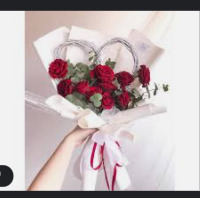RedRose: (46, 57, 69, 77), (56, 76, 76, 99), (93, 63, 117, 82), (111, 68, 131, 87), (136, 62, 151, 87), (87, 84, 104, 100), (118, 92, 133, 109), (101, 91, 115, 109), (77, 80, 89, 97)
